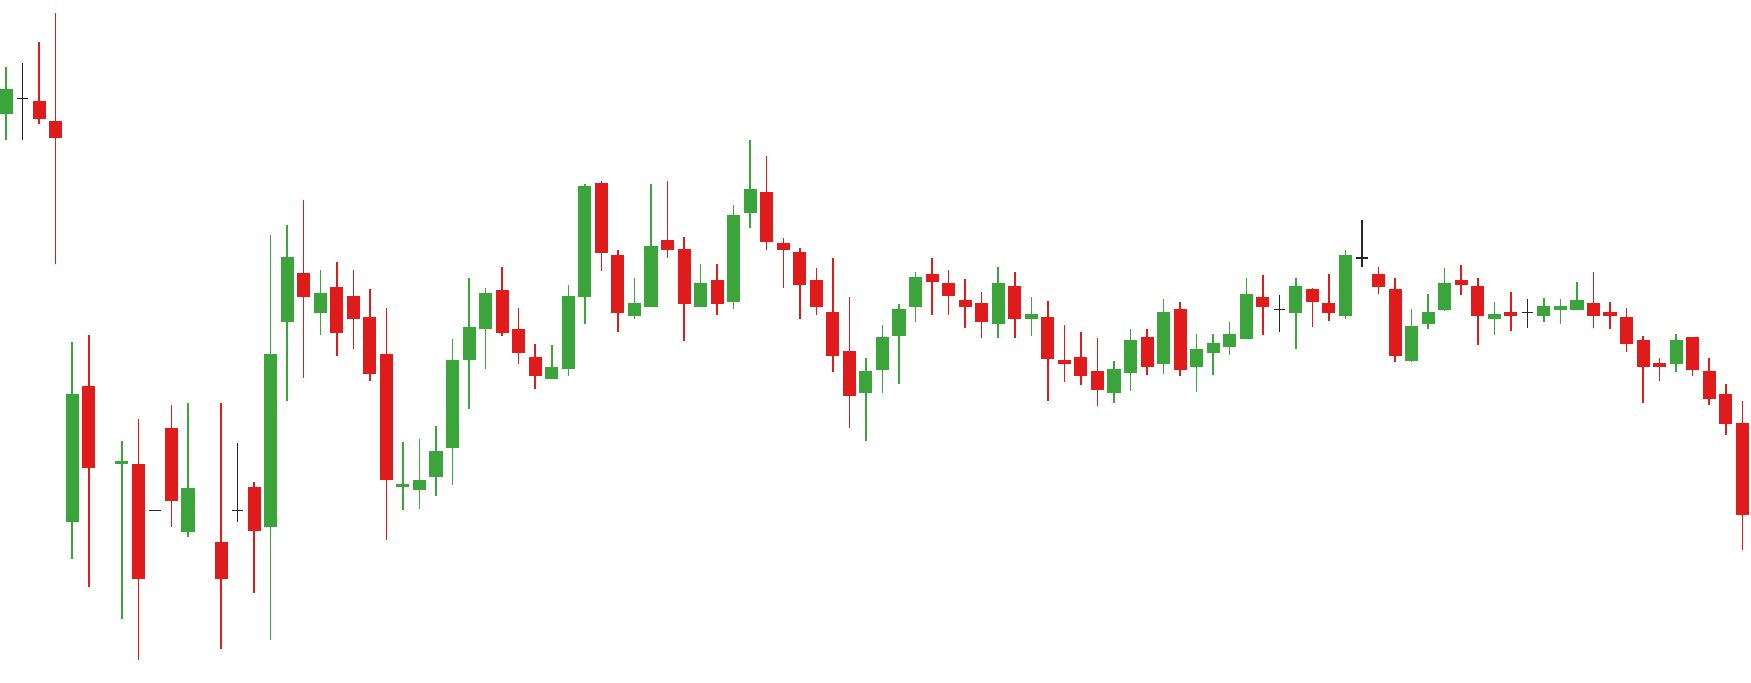sell: (642, 143, 755, 283)
